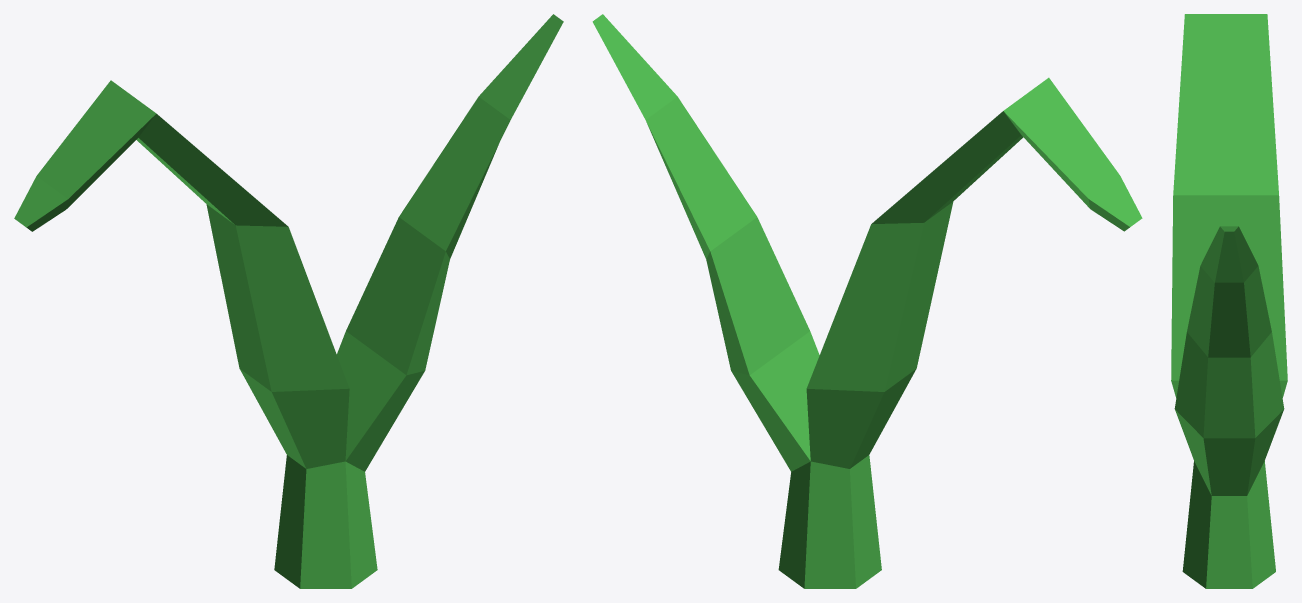
File: 1-corn.glb
The picture shows the model from 3 angles, left to right: view 1: azimuth 30°, elevation 25°; view 2: azimuth 150°, elevation 25°; view 3: azimuth 270°, elevation 25°; orthographic projection. The views are drawn at different scales.
Parts seen in each view (by area): view 1: Цилиндр; view 2: Цилиндр; view 3: Цилиндр.
Boxes of the visible parts, <box> form: Цилиндр: <box>14,14,563,588</box>; Цилиндр: <box>592,14,1142,588</box>; Цилиндр: <box>1171,14,1287,588</box>.
Bounding box in the file's own units: 0.9518 × 0.8807 × 0.1972.
